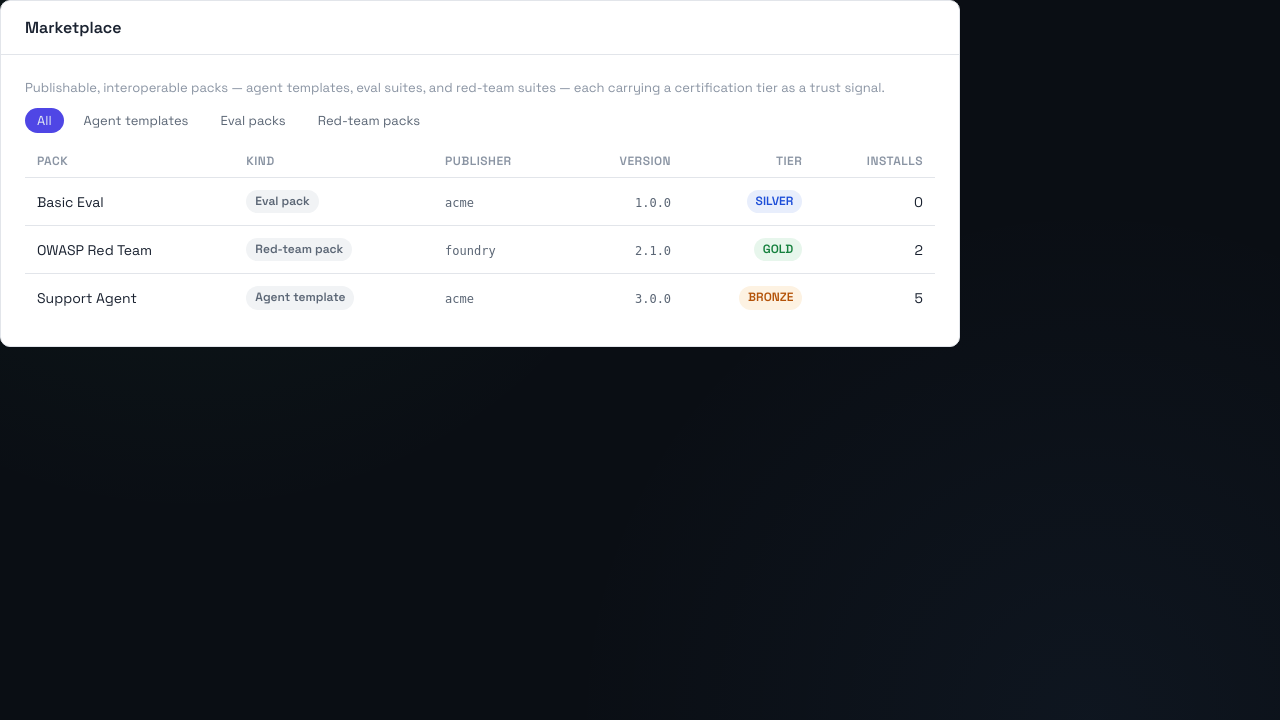
Test: MarketplaceScreen (S114) › filters the catalog by kind when a filter is clicked
Expected: the text "SILVER" is shown, [747,190,802,213]
What coordinates should you click on to do the following:
click the button with test id "market-filter-redteam_pack"
I would click on:
 (369, 120)
Its box is [306,108,432,133].
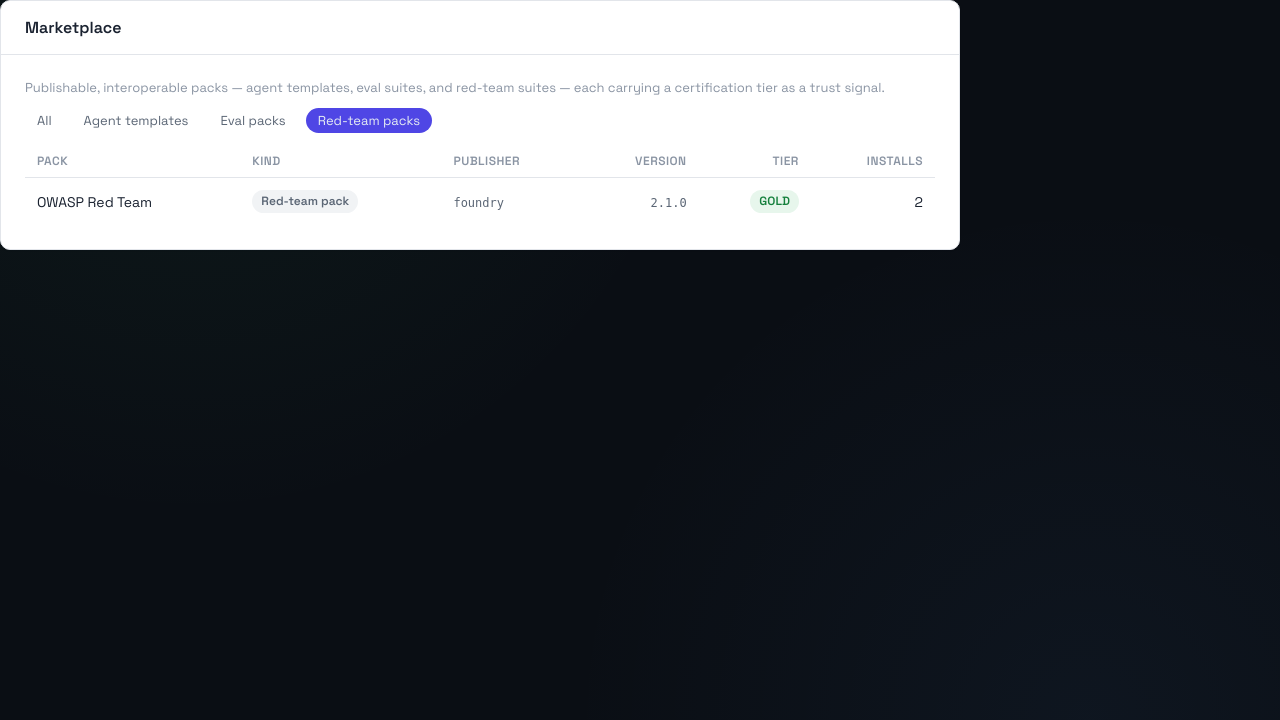
Expected: the text "GOLD" is shown, [750,190,799,213]
Now the text with test id "pack-tier-eval-basic" is gone
